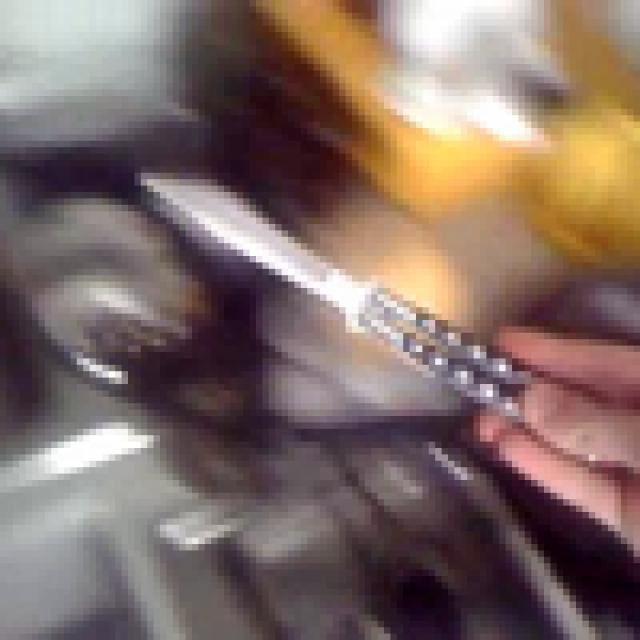knife: (128, 122, 589, 500)
